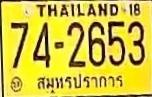2: (66, 21, 84, 67)
3: (127, 20, 144, 65)
4: (32, 21, 50, 67)
5: (107, 20, 125, 65)
6: (87, 21, 105, 66)
7: (10, 22, 28, 68)
SPK: (35, 73, 125, 91)
